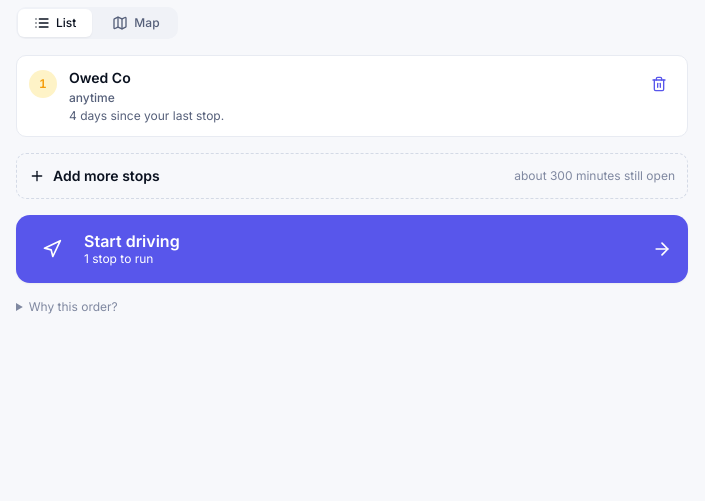
Test case: TodaysPathView › one-tap 'Add more stops' (v2.2 B 4.4 fill to capacity) › marks filled rows while the notice shows and clears the marker after Undo
What coordinates should you click on to do the following:
click the button "Add more stops about 300 minutes still open"
I would click on:
 (106, 176)
Its box is [16,153,688,199].
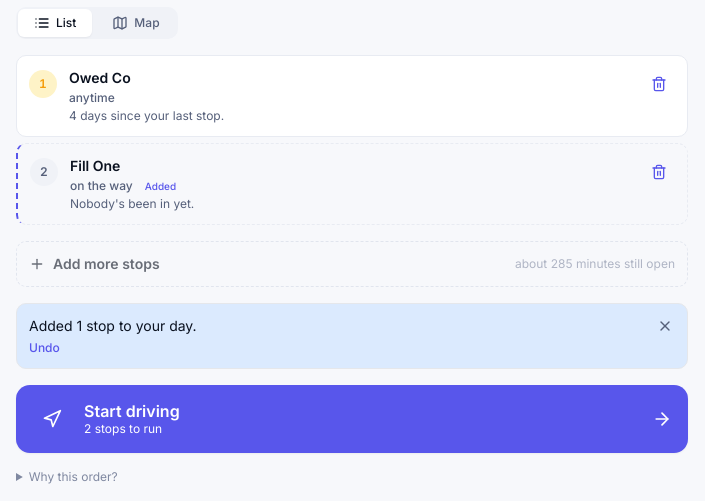
Check: the text "Added" is shown, box [145,180,176,192]
Undo clears both the row and its marker.
What coordinates should you click on to do the following:
click the button "Undo"
I would click on:
 (44, 348)
Its box is [29,340,60,356].
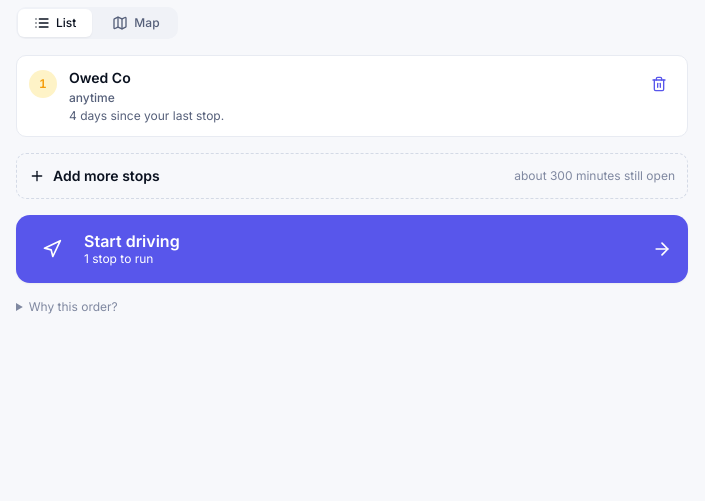
Check: the text with test id "fill-marker-f1" is gone
